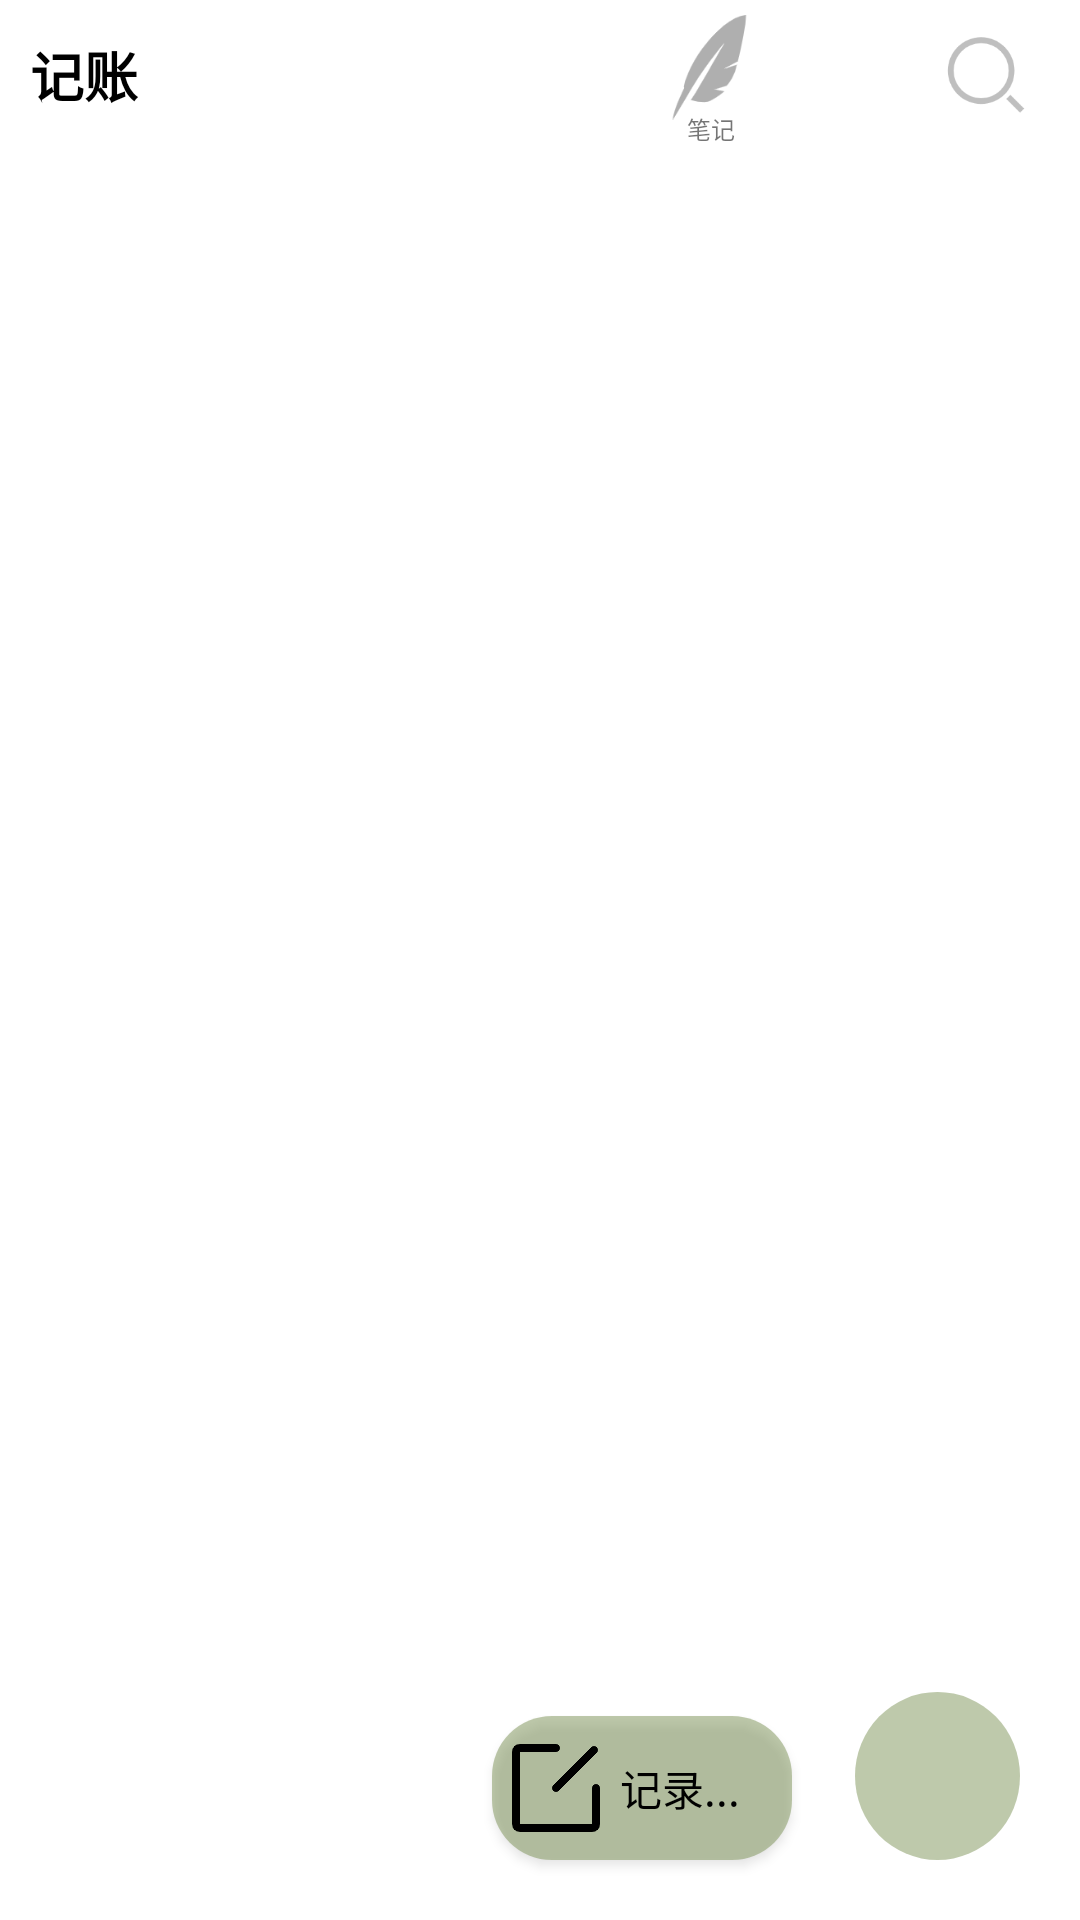

Named icons in this screenshot (1080px x 1920px) and their centers, [x,y]:
search: [986,74]
